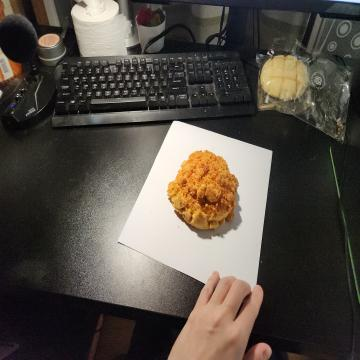soboru_bread: (168, 148, 241, 234)
